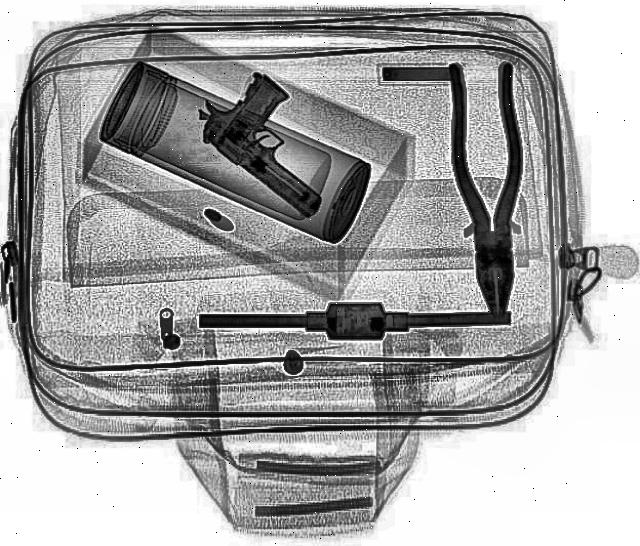Gun: (176, 66, 380, 224)
Pliers: (443, 62, 531, 319)
